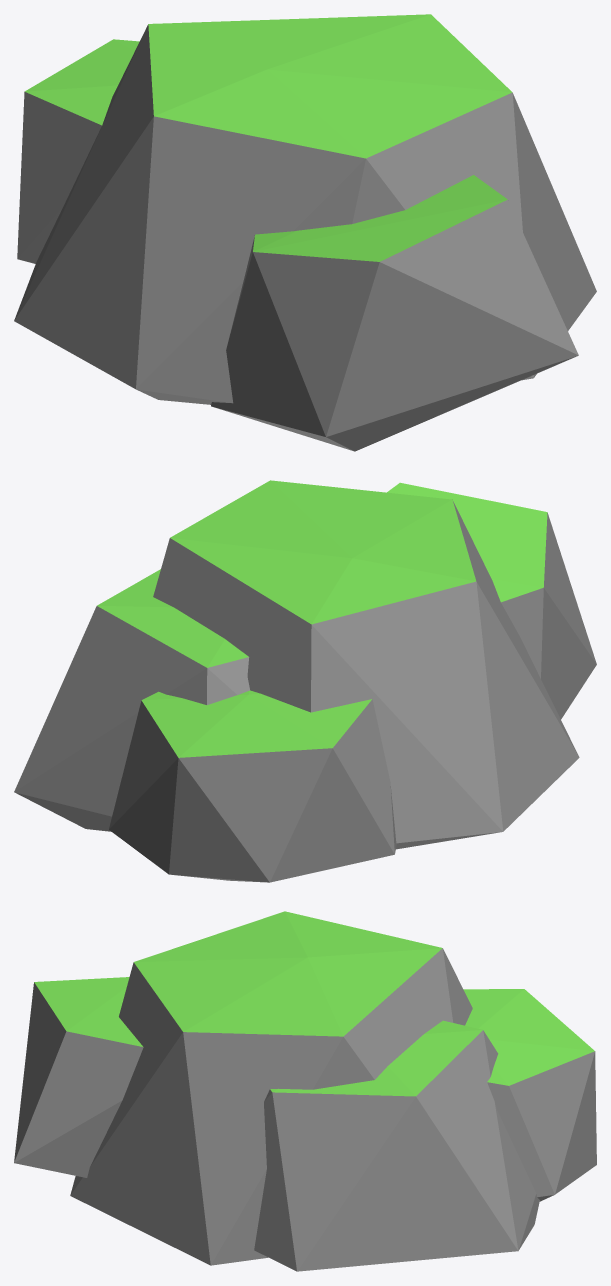
File: Cliff_4.fbx
The picture shows the model from 3 angles, top to bottom: view 1: azimuth 30°, elevation 25°; view 2: azimuth 150°, elevation 25°; view 3: azimuth 270°, elevation 25°; orthographic projection. The views are drawn at different scales.
Parts seen in each view (by area): view 1: Cliff_4; view 2: Cliff_4; view 3: Cliff_4.
Boxes of the visible parts, box(x1,y1,x2,y2) form: Cliff_4: box(14, 14, 596, 451); Cliff_4: box(14, 480, 596, 882); Cliff_4: box(14, 911, 596, 1271).
Bounding box in the file's own units: 338 × 183 × 407.
